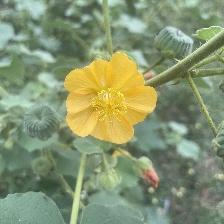indian mallow: (64, 52, 160, 147)
